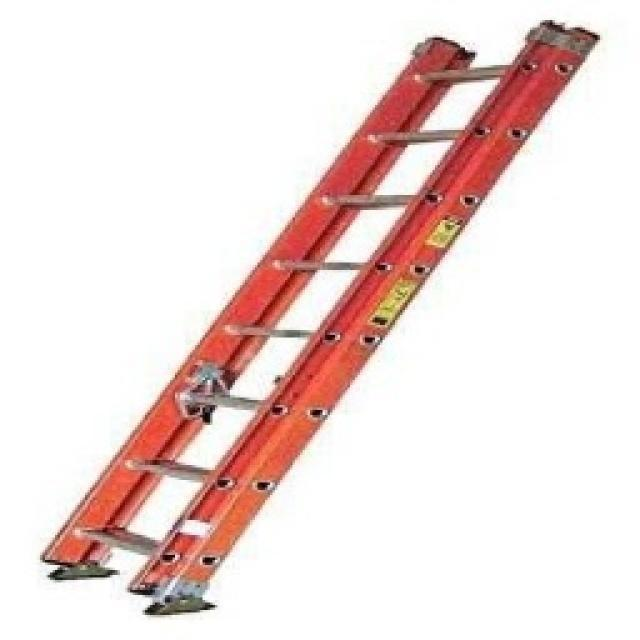forklift: (46, 29, 604, 613)
ladder: (46, 29, 604, 613)
